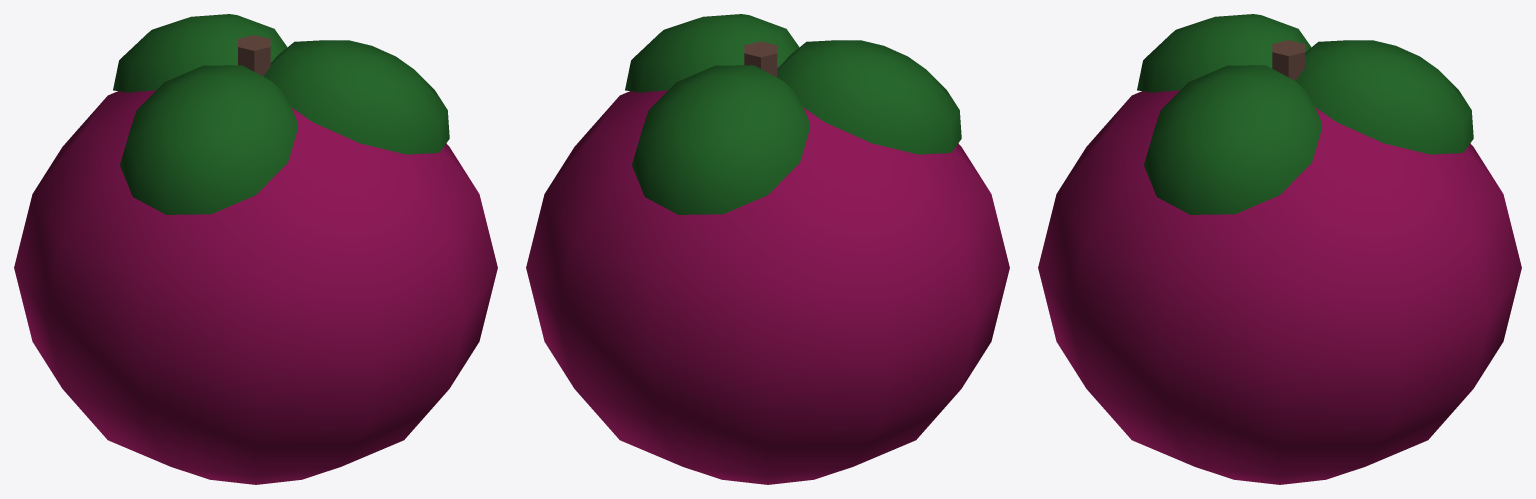
File: mangosteen.fbx
The picture shows the model from 3 angles, left to right: view 1: azimuth 30°, elevation 25°; view 2: azimuth 150°, elevation 25°; view 3: azimuth 270°, elevation 25°; orthographic projection.
Parts seen in each view (by area): view 1: mangosteen; view 2: mangosteen; view 3: mangosteen.
Boxes of the visible parts, x1,y1,x2,y2 form: mangosteen: (14,14,497,484); mangosteen: (526,14,1009,484); mangosteen: (1038,14,1521,484).
Size of the model in its own units: 192 by 181 by 192.
